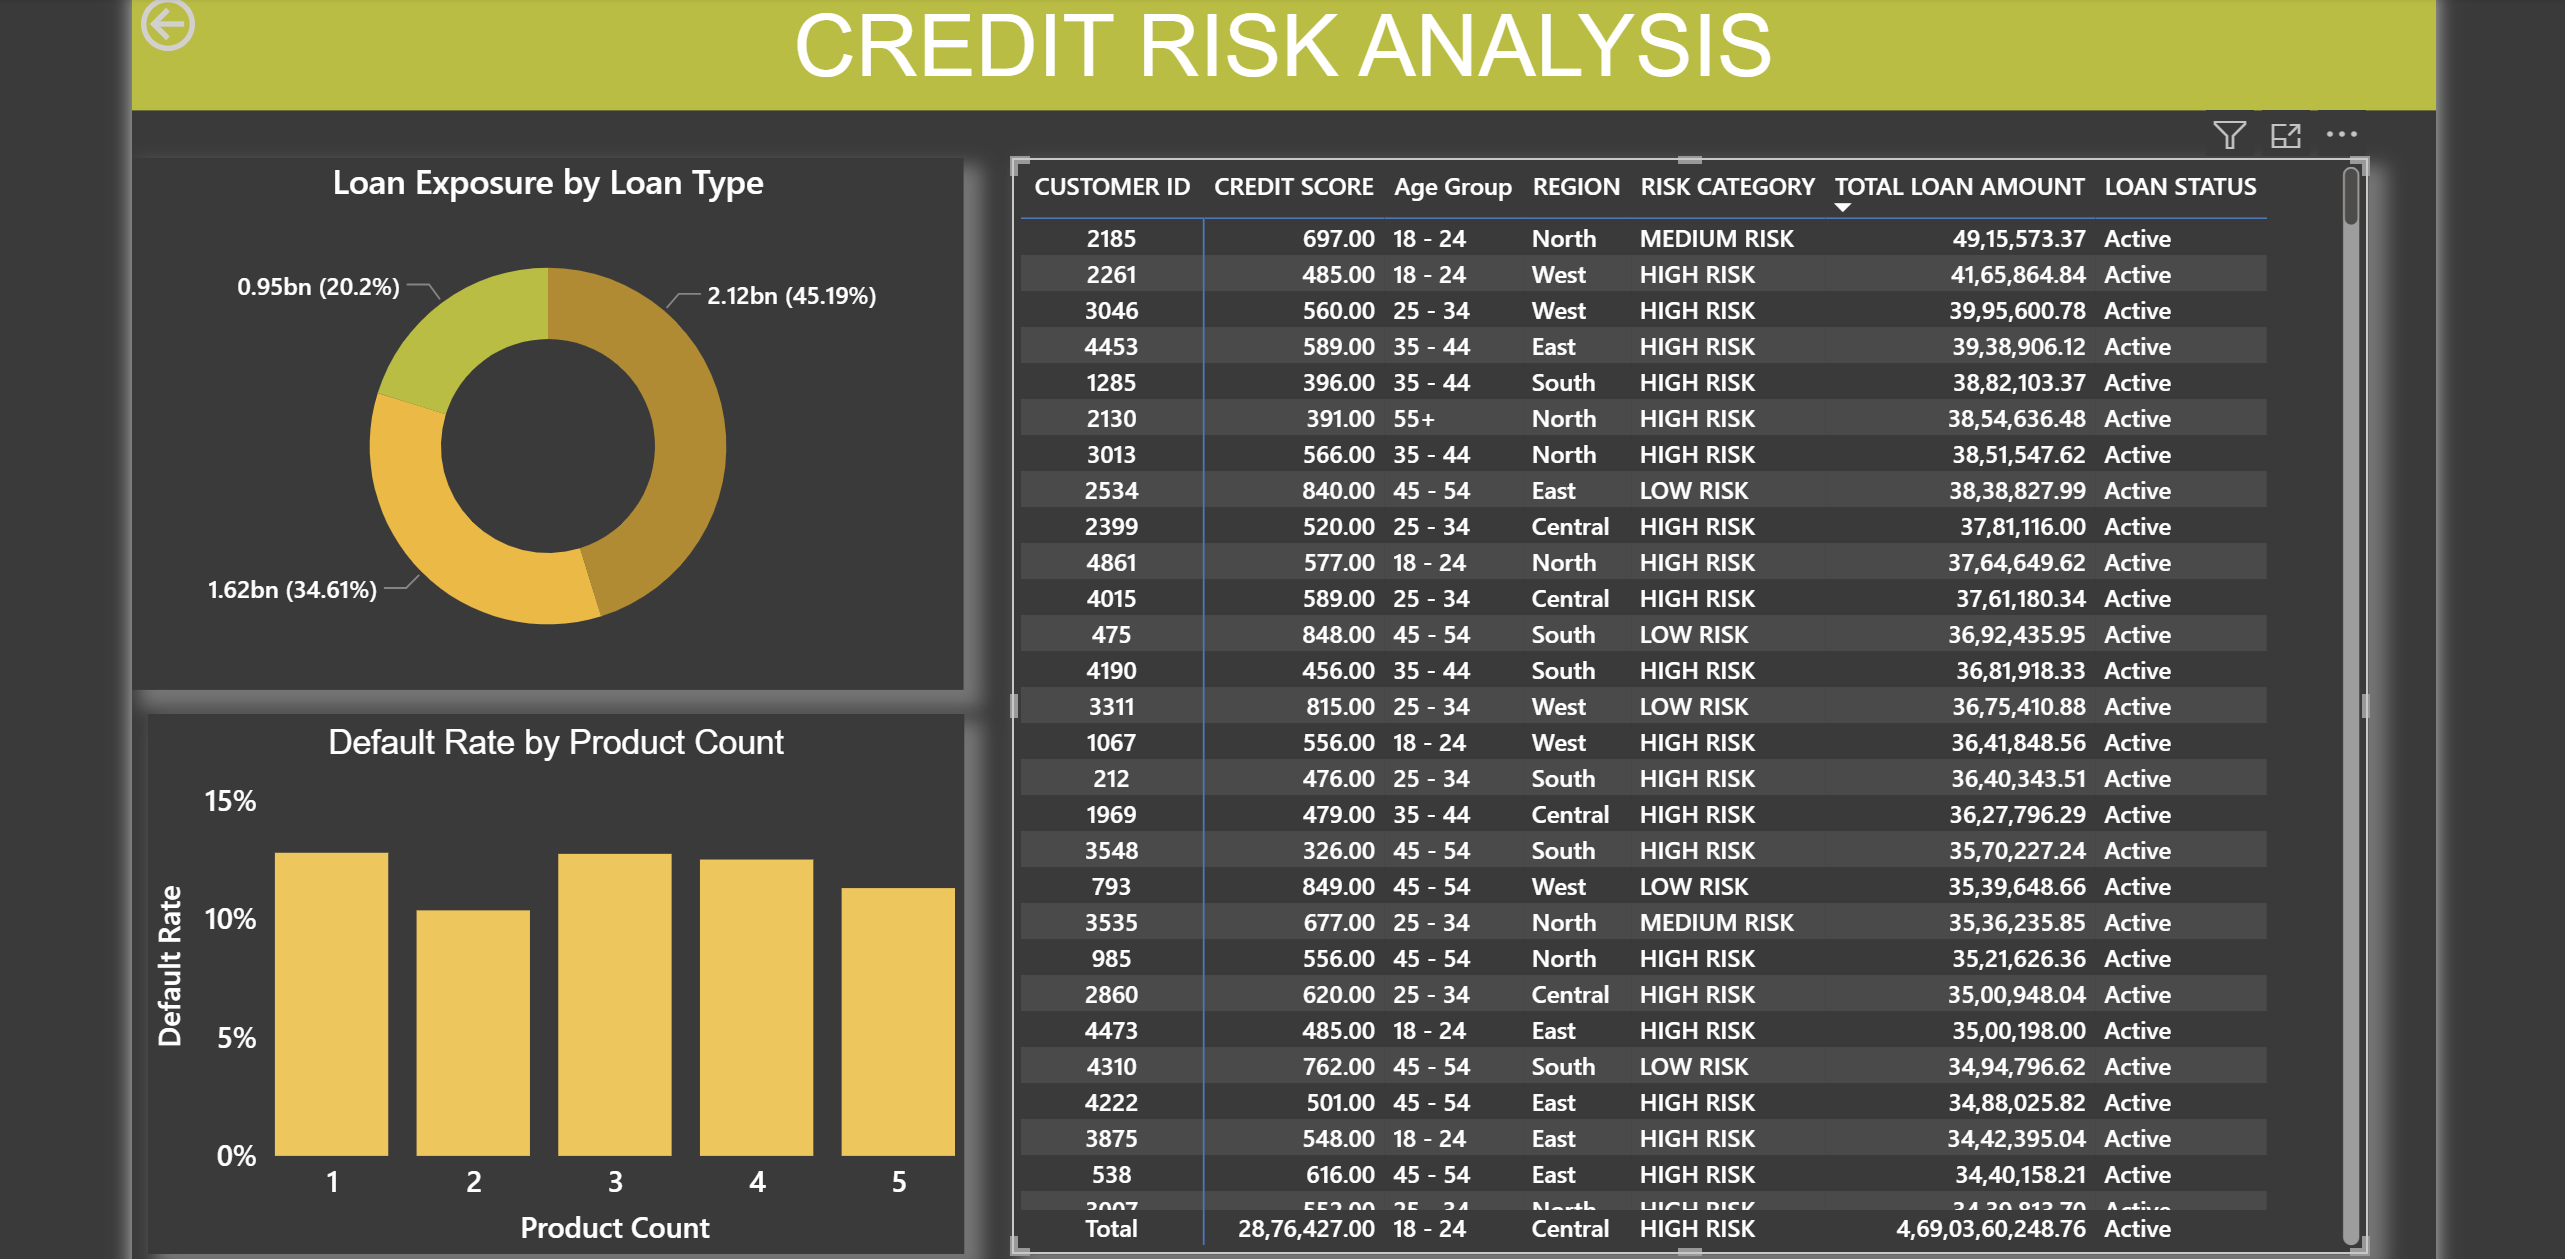

Layout of this report page (visuals, bound fields, positions):
{"tool":"powerbi","page":{"name":"Page 2","canvas":[1280,720],"ordinal":1},"visuals":[{"type":"textbox","box":[0,0,1280,67.8],"z":0},{"type":"donutChart","title":"Loan Exposure by Loan Type","fields":{"Category":["LOAN.LOAN_TYPE"],"Y":["CATEGORY.Total Loan Exposure"]},"box":[0,94.4,462.2,295.6],"z":1000},{"type":"clusteredColumnChart","title":"Default Rate by Product Count","fields":{"Category":["PRODUCT.PRODUCT_COUNT"],"Y":["LOAN_DEFAULT_DATA.Default Rate"]},"box":[8.9,403.3,453.3,300],"z":2000},{"type":"pivotTable","fields":{"Rows":["CUSTOMER.CUSTOMER_ID"],"Values":["Sum(CATEGORY.CREDIT_SCORE)","Min(CUSTOMER.Age Group)","Min(CUSTOMER.REGION)","Min(CATEGORY.RISK_CATEGORY)","Sum(CUSTOMER_DATA.LOAN_AMOUNT)","Min(CUSTOMER_DATA.LOAN_STATUS)"]},"box":[488.9,94.4,753.3,608.9],"z":3000},{"type":"actionButton","box":[0,0,100,40],"z":4000}]}

Visuals, with their boxes on the page's 1280x720 design canvas (x1, y1, x2, y2). These are canvas units, not pixel positions in the 2565x1259 screenshot, which may show the page scaled, cropped or inside an application window:
textbox: <region>0, 0, 1280, 68</region>
"Loan Exposure by Loan Type" donutChart: <region>0, 94, 462, 390</region>
"Default Rate by Product Count" clusteredColumnChart: <region>9, 403, 462, 703</region>
pivotTable - CUSTOMER.CUSTOMER_ID x Sum(CATEGORY.CREDIT_SCORE): <region>489, 94, 1242, 703</region>
actionButton: <region>0, 0, 100, 40</region>
